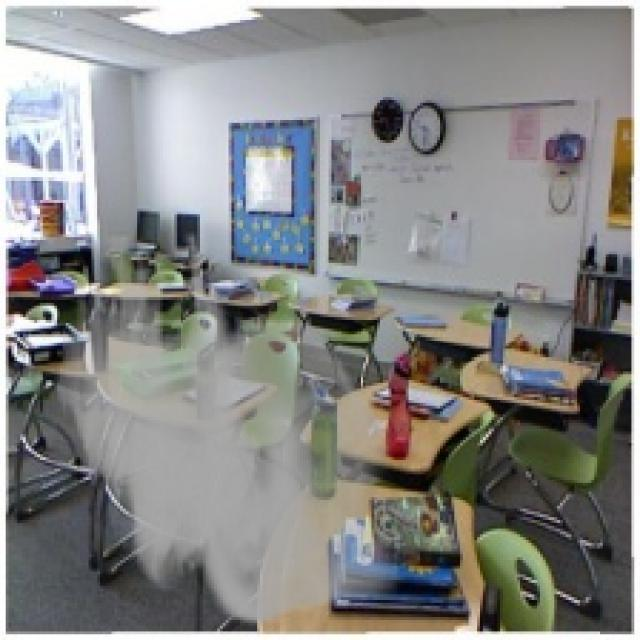Smoke: (51, 231, 400, 626)
